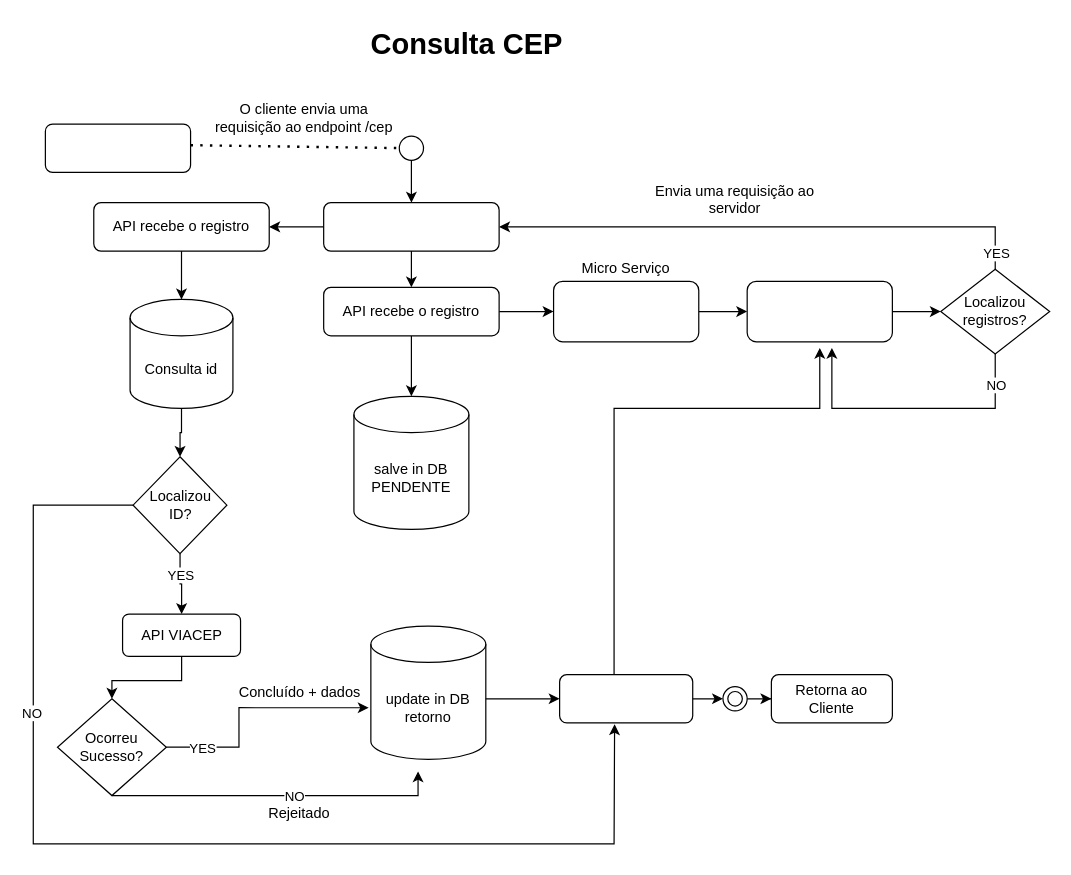
Image size: 1071x875. Some labels were removed from this diagram. Each missing label, with the box of its shape:
Cliente: (44, 123, 191, 172)
Exclui registro da Fila: (558, 673, 693, 723)
FILA SQS Recebe um ID: (552, 280, 699, 342)
Monitora a Fila: (746, 280, 892, 342)
SERVIDOR: (322, 201, 499, 251)
